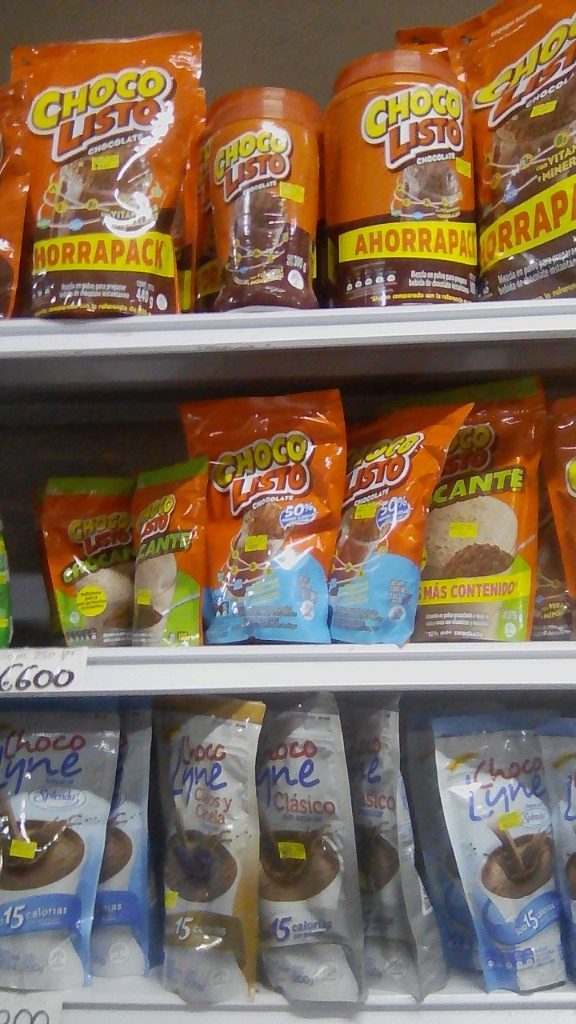COL0170102DYP10000: (133, 462, 213, 647)
COL0170103DYP1,500: (451, 1, 575, 299)
COL0170103DYP44000: (3, 35, 199, 317)
COL0170103TRR00100: (320, 48, 474, 309)
COL0170103TRR30000: (203, 88, 328, 311)
COL0170104DYP20000: (331, 401, 468, 643)
